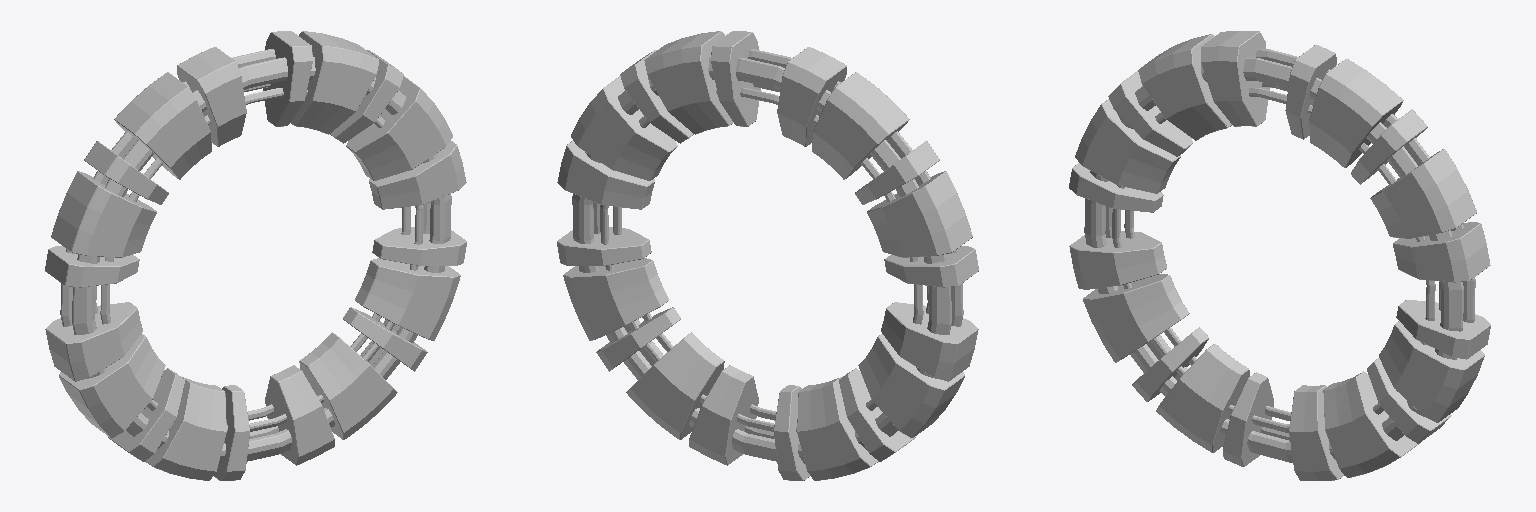
Rendered from Portal.obj.
The picture shows the model from 3 angles: view 1: azimuth 30°, elevation 25°; view 2: azimuth 150°, elevation 25°; view 3: azimuth 330°, elevation 25°; orthographic projection.
Visible parts, largest first — view 1: Portal_Cube; view 2: Portal_Cube; view 3: Portal_Cube.
Boxes of the visible parts, box(x1,y1,x2,y2) form: Portal_Cube: box(45, 31, 466, 480); Portal_Cube: box(557, 31, 978, 480); Portal_Cube: box(1069, 31, 1490, 480).
Size of the model in its own units: 10 by 10 by 1.23.